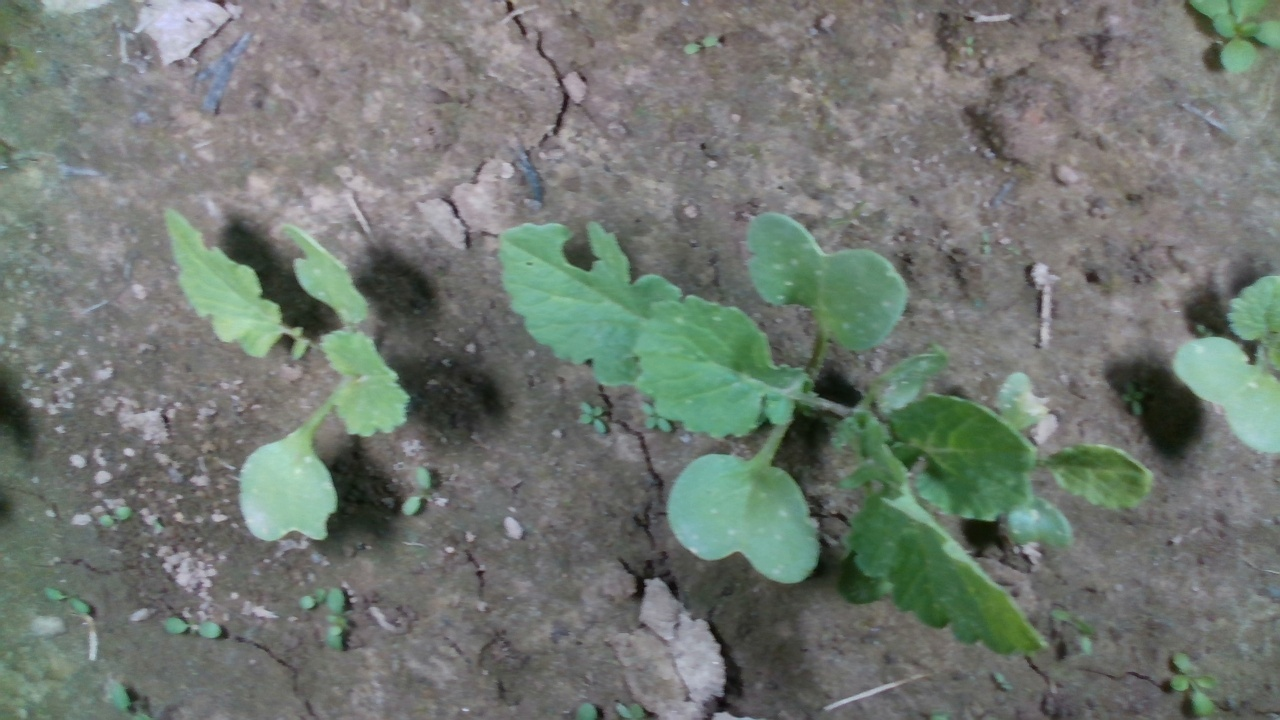weed: (1171, 650, 1218, 716), (170, 612, 226, 645), (326, 587, 350, 653), (679, 30, 730, 61), (401, 463, 430, 517), (576, 401, 614, 437), (43, 588, 90, 614), (98, 501, 125, 532), (295, 584, 326, 610)
